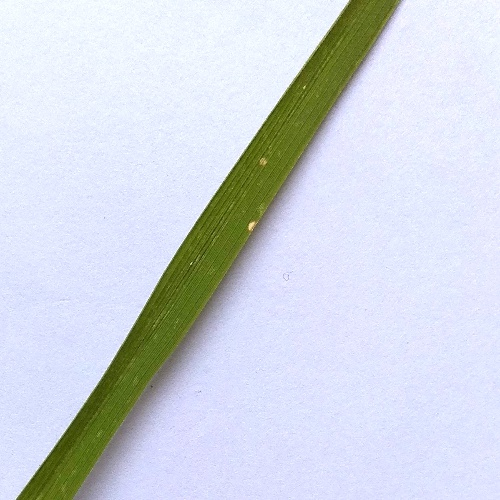Busuk Leher: (240, 213, 265, 241), (254, 152, 275, 172)
